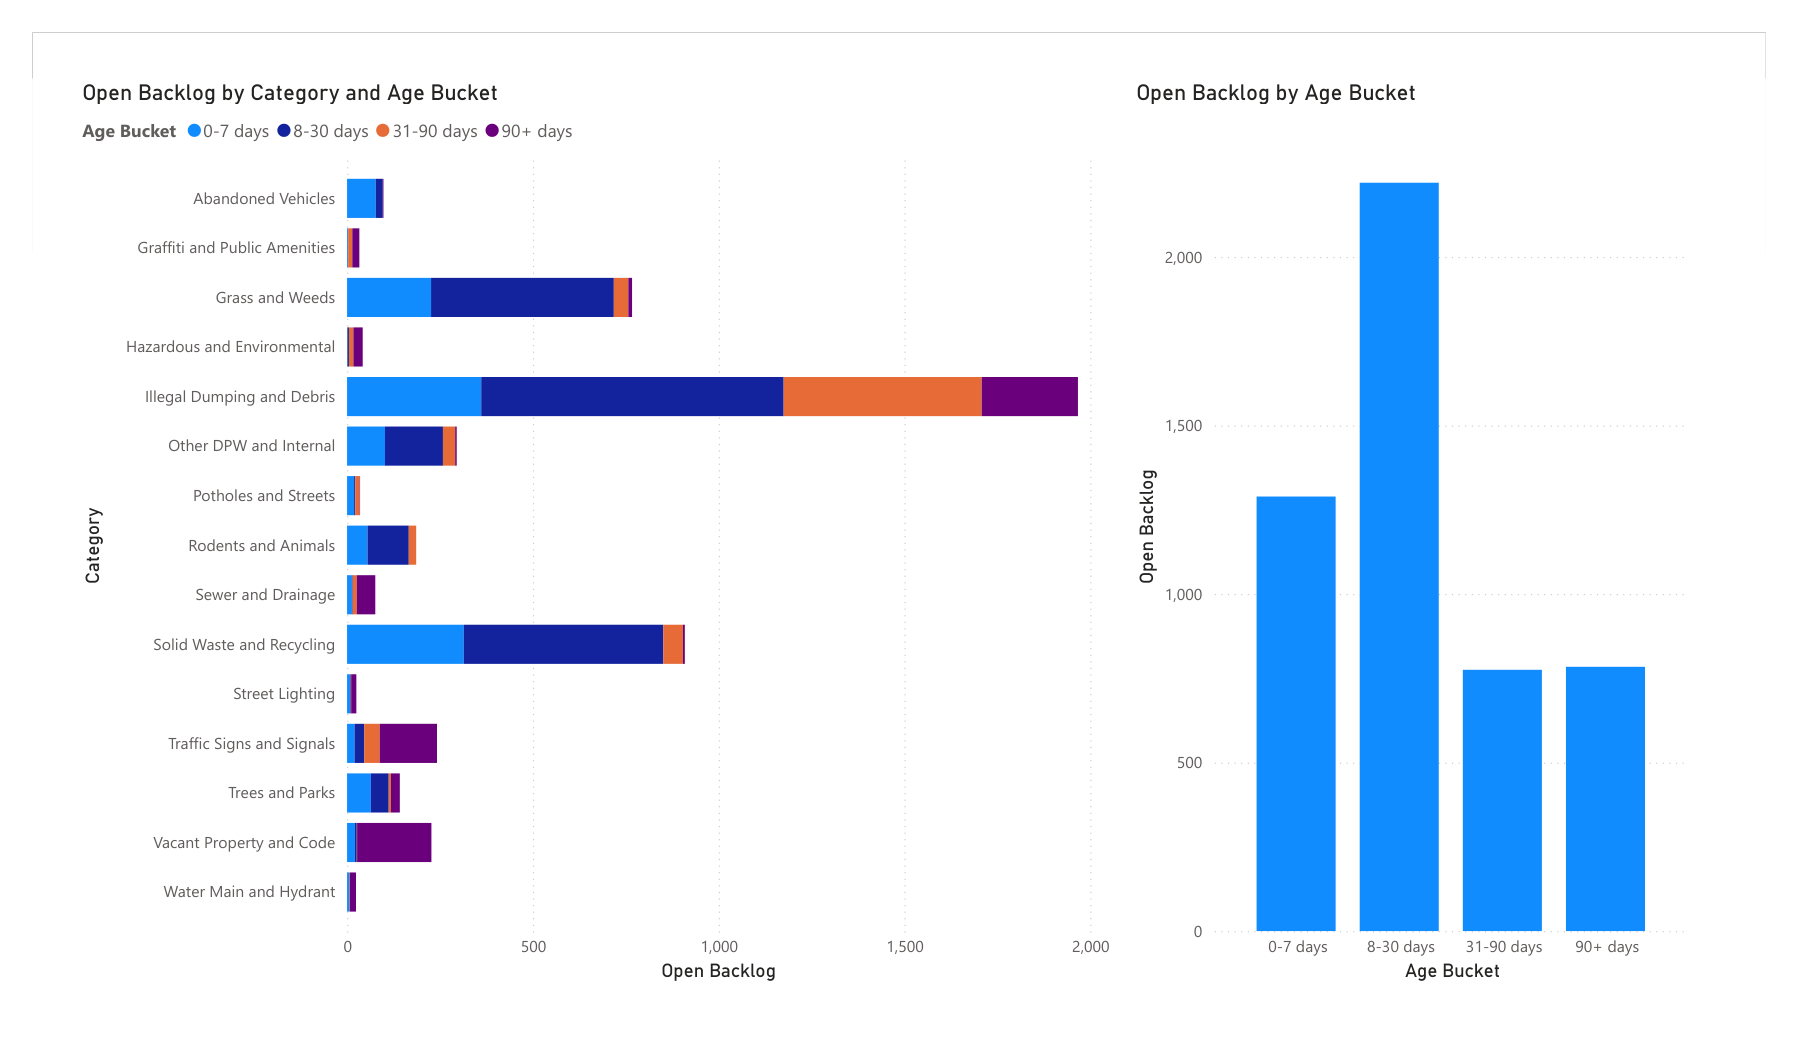

Layout of this report page (visuals, bound fields, positions):
{"tool":"powerbi","page":{"name":"Backlog aging","canvas":[1280,720],"ordinal":2},"visuals":[{"type":"barChart","fields":{"Category":["Request Type.Category"],"Series":["Issues.Age Bucket"],"Y":["Issues.Open Backlog"]},"box":[15,15,790,690],"z":0},{"type":"clusteredColumnChart","fields":{"Category":["Issues.Age Bucket"],"Y":["Issues.Open Backlog"]},"box":[815,15,430,690],"z":1}]}

Visuals, with their boxes in screenshot pixels (x1, y1, x2, y2), scaled from the page's 1280x720 canvas onto the 1799x1040 screenshot:
barChart - Request Type.Category x Issues.Age Bucket: region(21, 22, 1131, 1018)
clusteredColumnChart - Issues.Age Bucket x Issues.Open Backlog: region(1145, 22, 1750, 1018)
